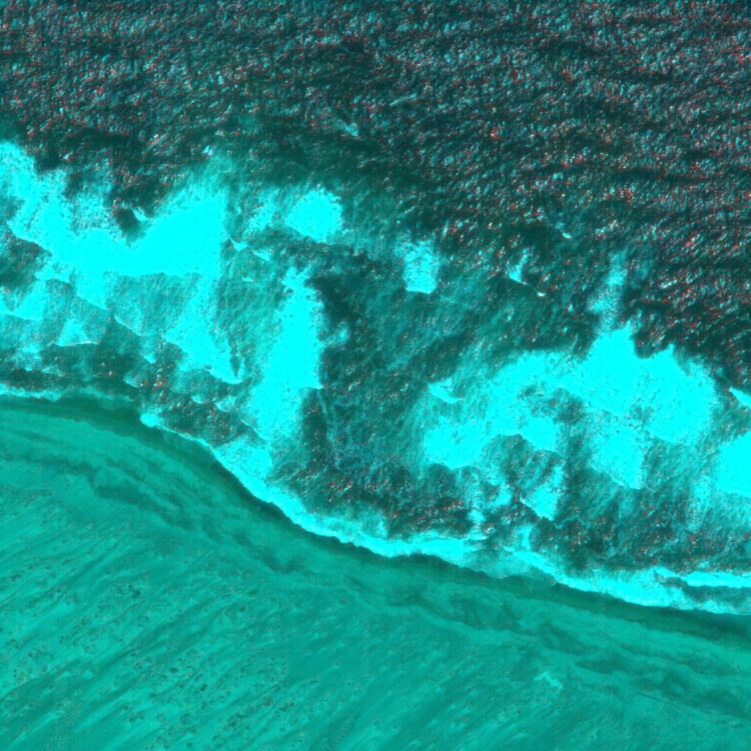rip_current: (264, 192, 528, 517)
